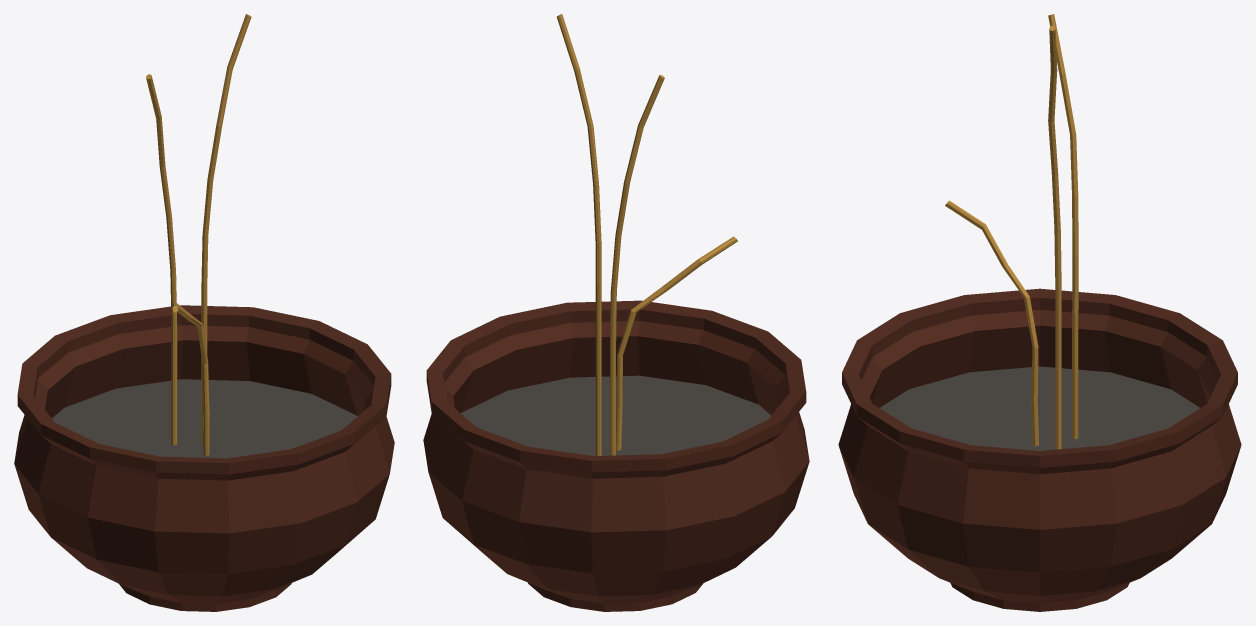
File: incenseBowl.fbx
The picture shows the model from 3 angles, left to right: view 1: azimuth 30°, elevation 25°; view 2: azimuth 150°, elevation 25°; view 3: azimuth 270°, elevation 25°; orthographic projection. The views are drawn at different scales.
Visible parts, largest first — view 1: Sphere.002; view 2: Sphere.002; view 3: Sphere.002.
Boxes of the visible parts, left/top/right/bottom form: Sphere.002: left=14, top=14, right=394, bottom=611; Sphere.002: left=423, top=14, right=809, bottom=611; Sphere.002: left=838, top=14, right=1241, bottom=611.
Size of the model in its own units: 200 by 200 by 313.
